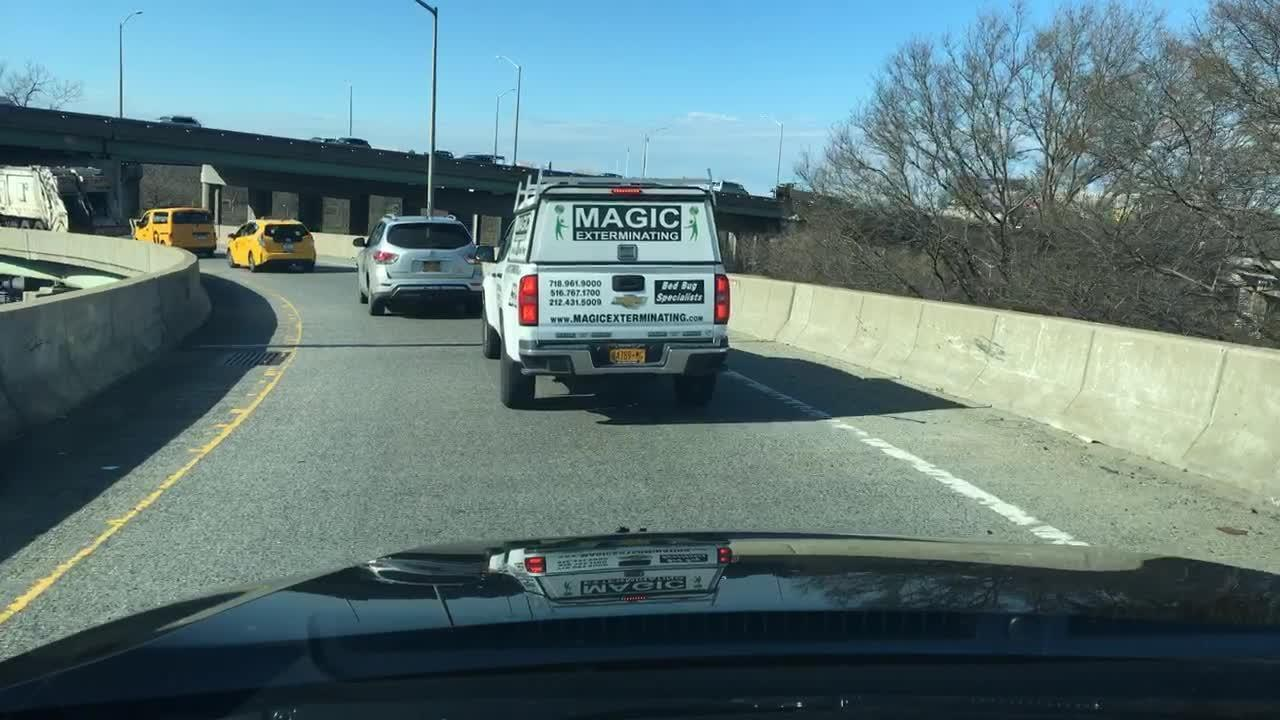chevrolet: (610, 292, 651, 310)
